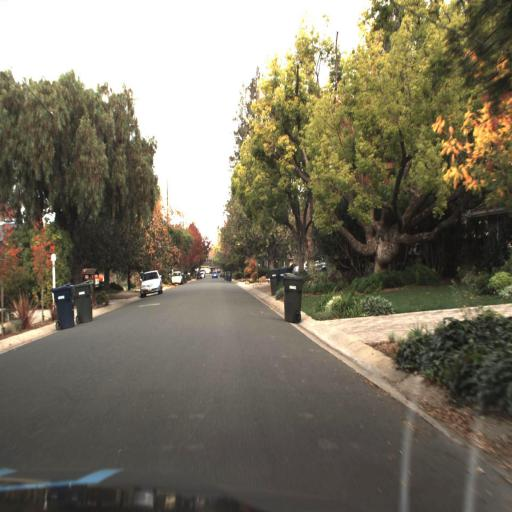car: (137, 267, 166, 301), (140, 270, 164, 295), (80, 265, 107, 285), (170, 270, 182, 286)
